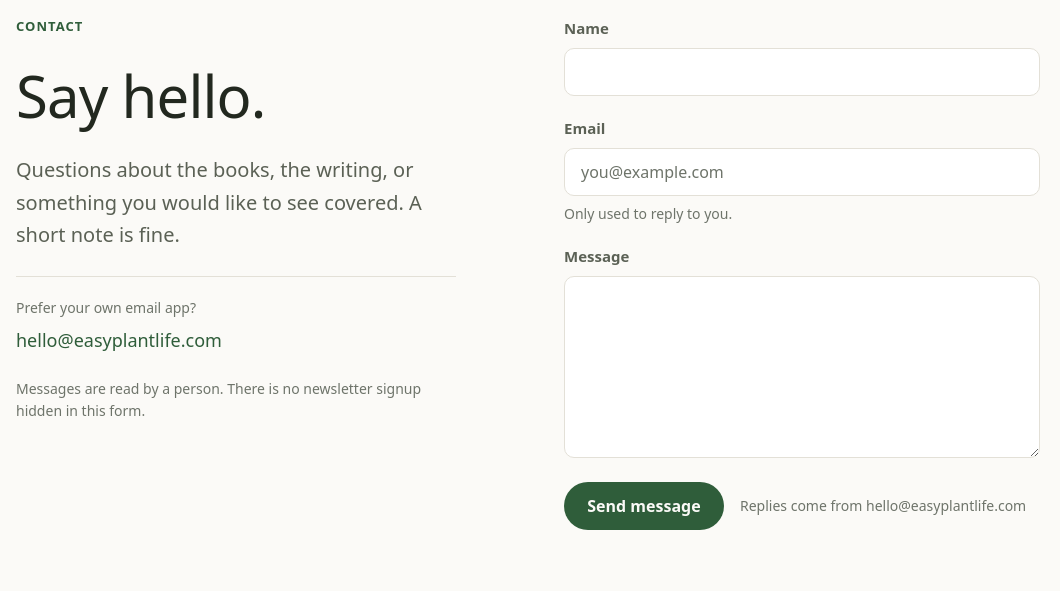
Test case: Contact Page Integration Tests › Error handling › allows retry after error
The width and height of the screenshot is (1060, 591).
Type "John Doe" into the field labelled "Name" at point(802, 72), box [564, 48, 1040, 96]
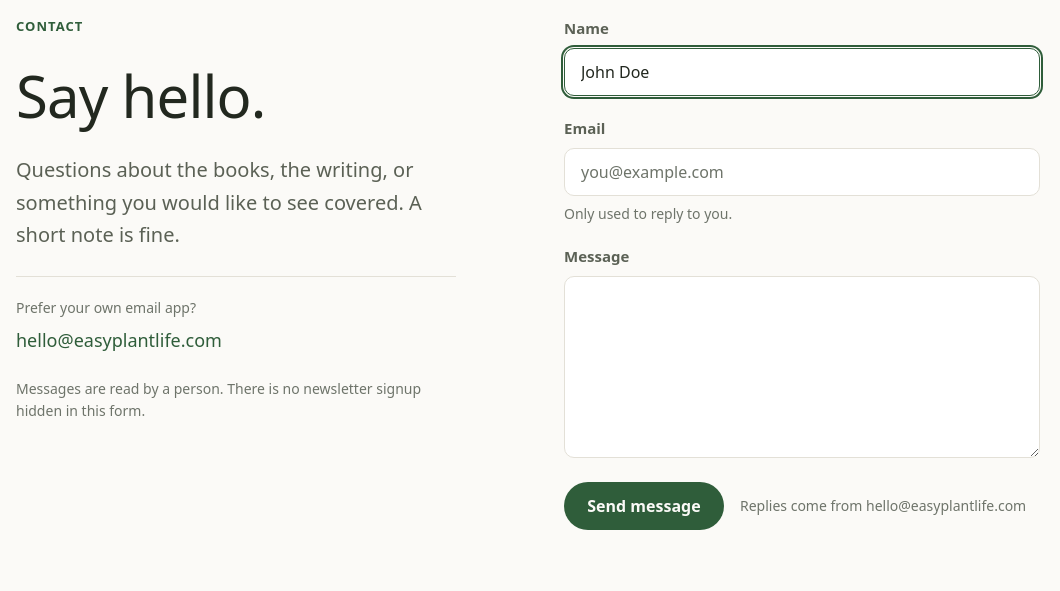
Type "john@example.com" into the field labelled "Email" at point(802, 172), box [564, 148, 1040, 196]
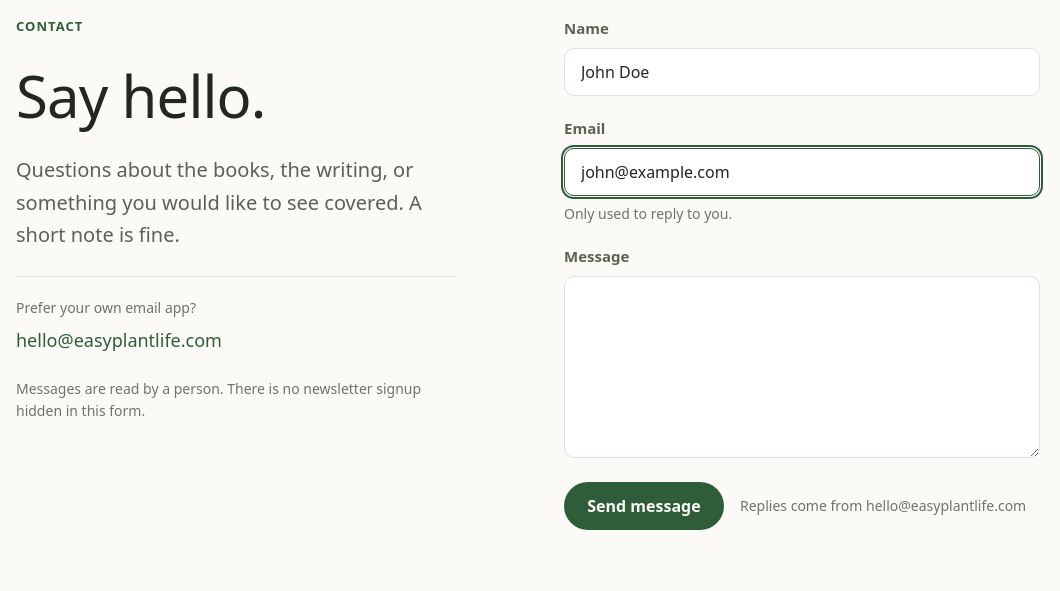
Type "Hello!" into the text box labelled "Message" at point(802, 367), box [564, 276, 1040, 458]
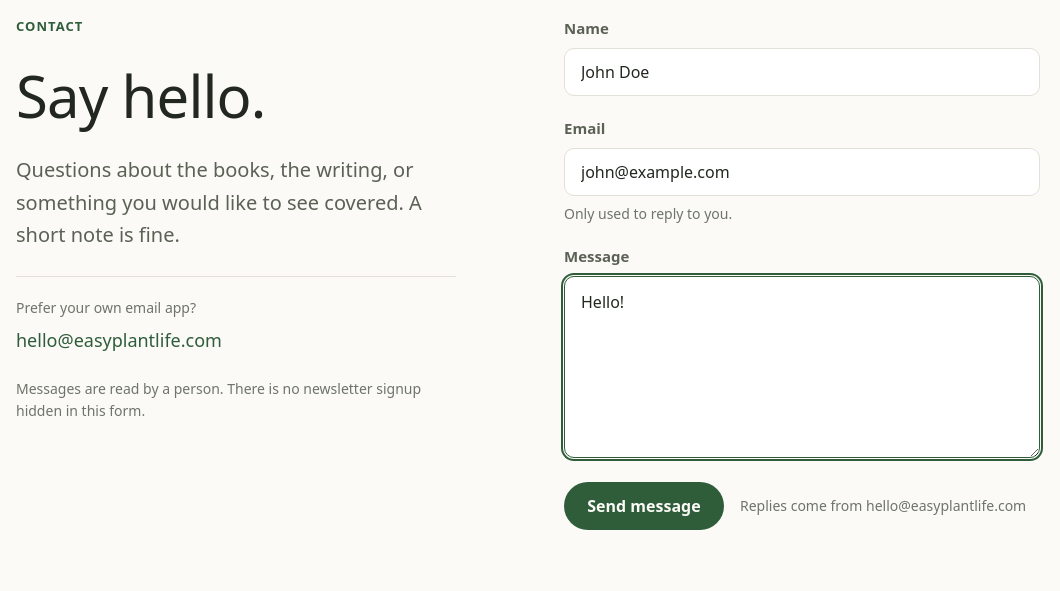
Note: First submission fails
Click the button "Send message" at point(644, 506), box [564, 482, 724, 530]
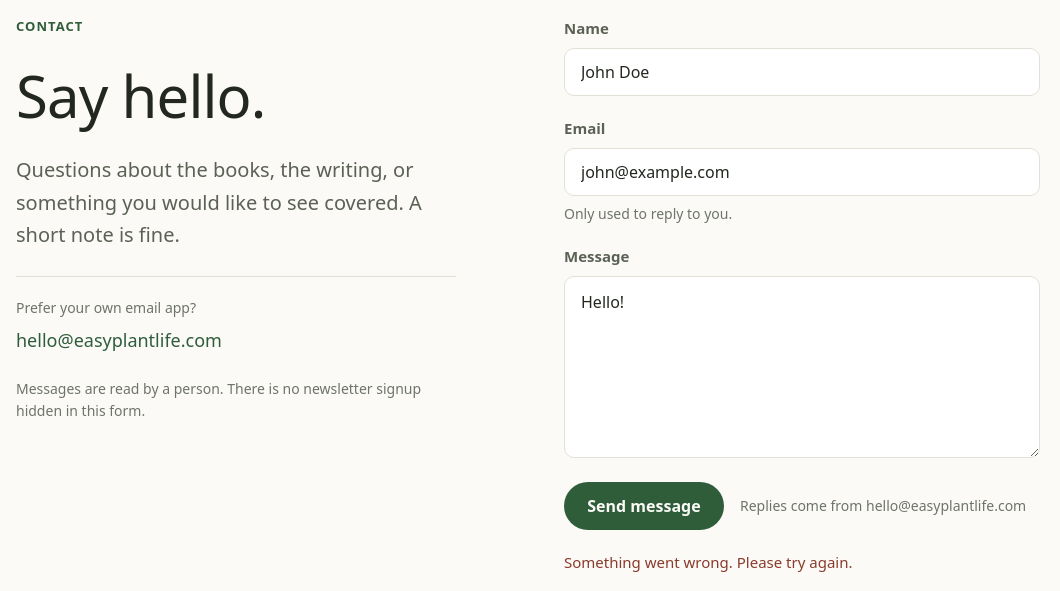
Expected: the form is shown, [564, 16, 1040, 574]
Expected: the message "Something went wrong. Please try again." is shown, [564, 552, 852, 572]
Note: Retry submission succeeds
Click the button "Send message" at point(644, 506), box [564, 482, 724, 530]
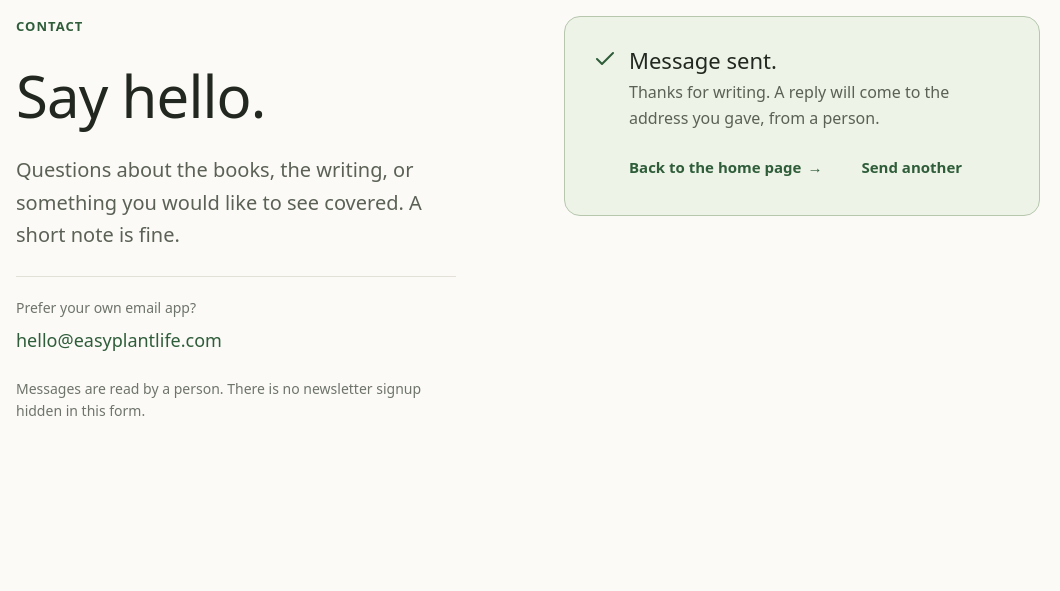
Expected: the message with test id "contact-success" is shown, [564, 16, 1040, 216]
